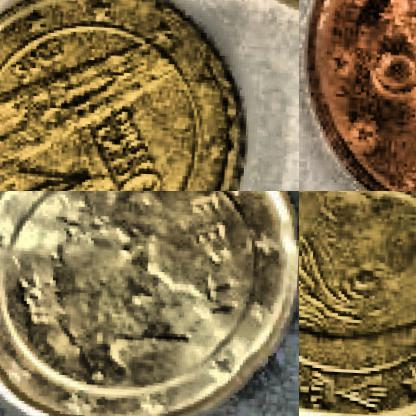coin: (0, 191, 298, 415), (0, 0, 254, 190), (299, 191, 415, 415), (299, 0, 415, 190)
